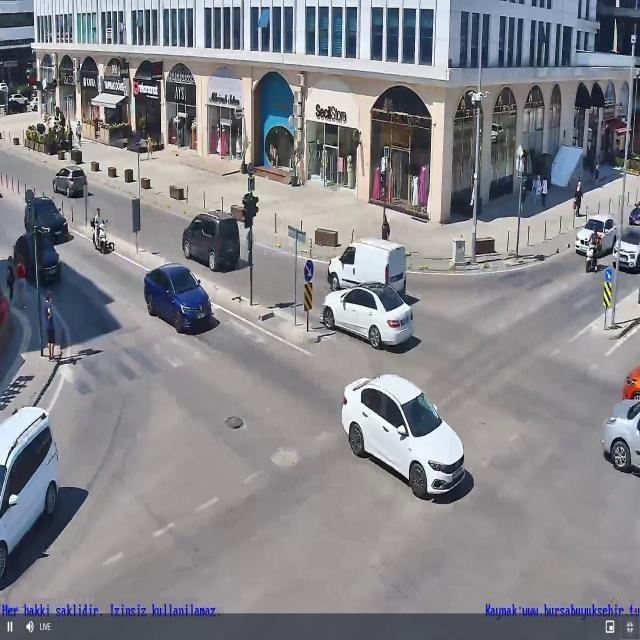Car: (338, 371, 471, 503), (1, 406, 59, 588), (320, 280, 415, 349), (143, 264, 211, 333), (181, 211, 241, 272), (602, 394, 640, 475), (14, 232, 59, 286), (25, 194, 68, 245), (575, 213, 617, 257), (611, 224, 640, 270), (52, 167, 86, 198), (8, 94, 29, 107)
Van: (328, 238, 407, 297)
